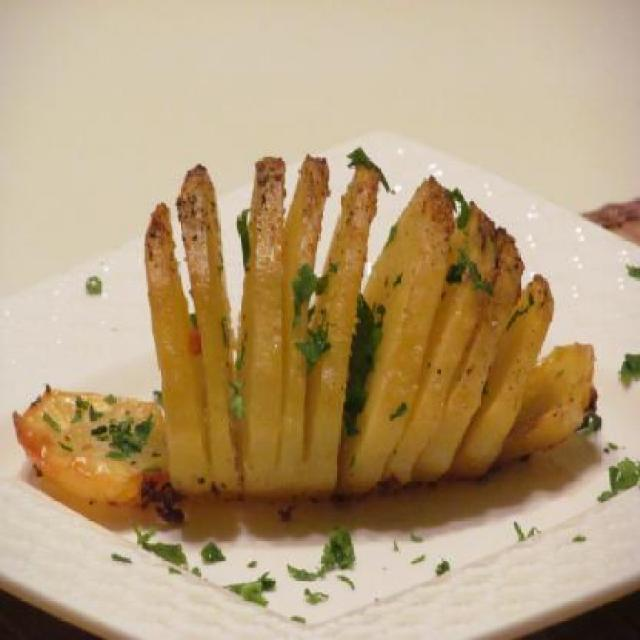Potato: (11, 152, 596, 498)
